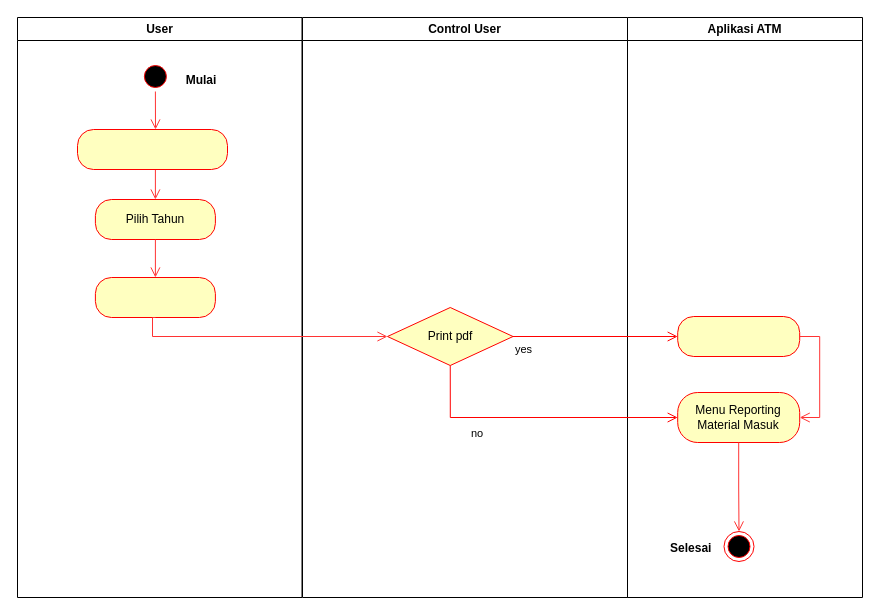
Some shapes in this 880 by 615 pixel diagram are drawn without their labels. Here are the shapes that lost their labels. From the top down, the centre of each, then its label:
At point (152, 149): "List Reporting Material Masuk".
At point (154, 297): "Cetak Laporan".
At point (738, 336): "Cetak".
